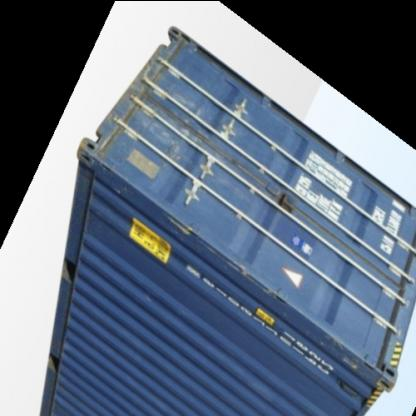Damage: (134, 90, 230, 158), (312, 324, 385, 372), (221, 250, 283, 304), (169, 212, 209, 240), (133, 285, 163, 307)
